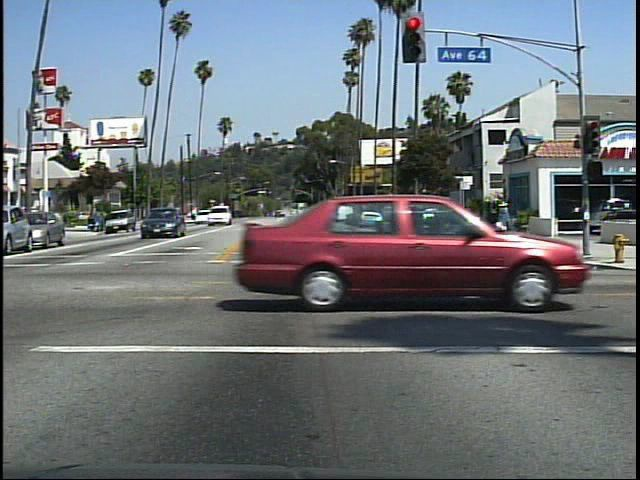person: (496, 195, 513, 242)
